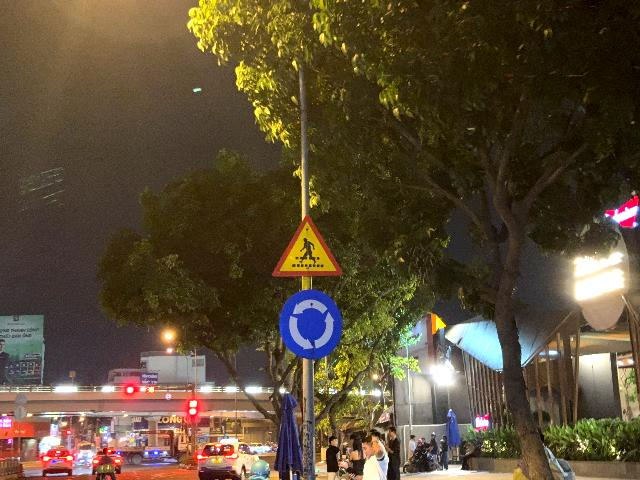duong-nguoi-di-bo-cat-ngang: (272, 213, 345, 277)
noi-giao-nhau-chay-theo-vong-xuyen: (279, 290, 342, 360)
